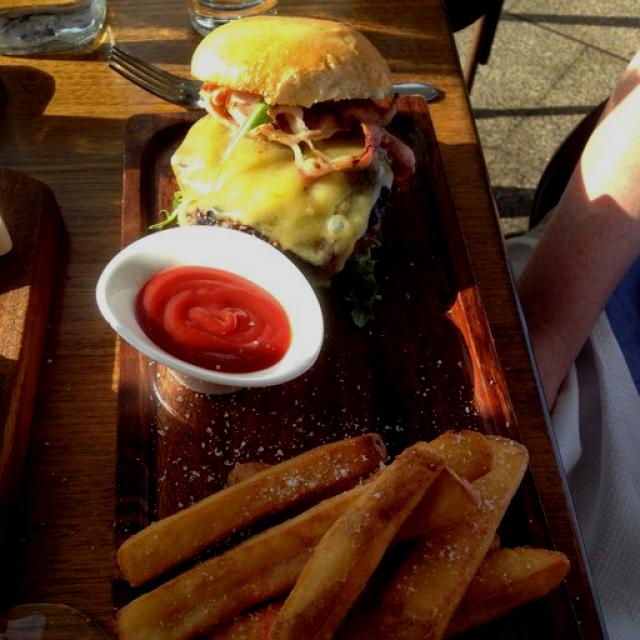burger: (158, 9, 432, 233)
